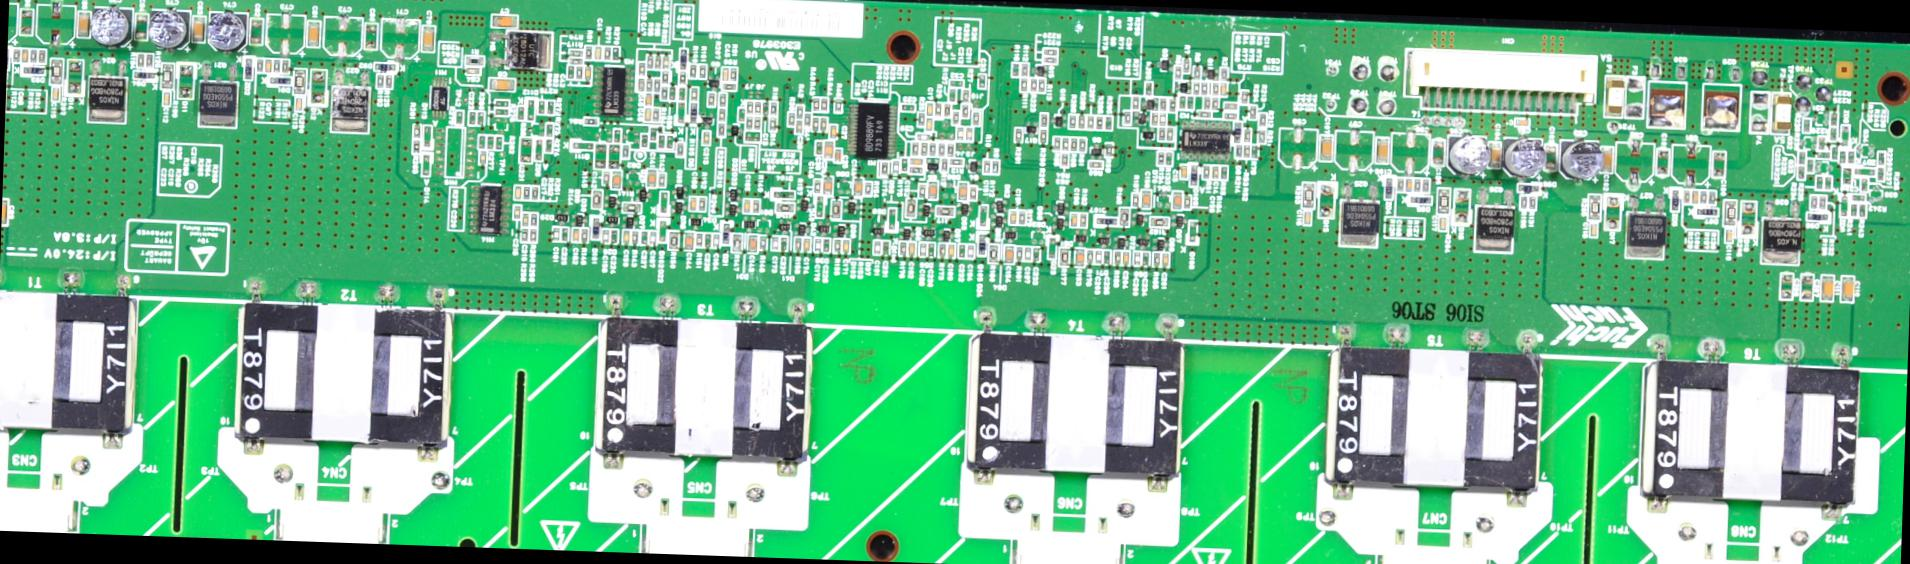Capacitor Jumper: (1448, 136, 1487, 172), (1563, 143, 1601, 178), (94, 6, 129, 43), (151, 11, 186, 46), (1510, 143, 1547, 177), (210, 12, 244, 45), (491, 13, 521, 28), (305, 19, 320, 48), (1375, 136, 1391, 163), (76, 10, 89, 38), (191, 17, 206, 43), (1838, 278, 1853, 302), (421, 26, 435, 51), (1320, 132, 1333, 160), (135, 11, 147, 39), (491, 76, 513, 90), (1599, 147, 1612, 171), (1489, 143, 1499, 167), (1821, 277, 1832, 300), (1, 199, 10, 225), (1171, 190, 1182, 211), (1004, 242, 1015, 261), (1031, 246, 1041, 262), (823, 140, 833, 157), (646, 169, 655, 186), (1141, 190, 1151, 207), (611, 172, 621, 189), (462, 66, 480, 74), (683, 233, 693, 249), (745, 130, 759, 141), (927, 184, 937, 199), (294, 96, 302, 112), (702, 130, 710, 146), (747, 236, 756, 250), (977, 74, 985, 89), (162, 90, 171, 105), (1404, 177, 1413, 191), (957, 184, 966, 199), (1588, 222, 1596, 239), (571, 227, 580, 241), (771, 235, 780, 250), (1076, 249, 1084, 263), (713, 233, 720, 249), (1179, 166, 1186, 180), (823, 178, 831, 192), (1009, 210, 1016, 224), (1070, 212, 1077, 227), (1123, 251, 1129, 268), (52, 88, 60, 101), (873, 240, 881, 253), (1305, 210, 1311, 225), (1143, 250, 1147, 269), (593, 46, 601, 58), (661, 56, 669, 68), (465, 108, 471, 123), (830, 123, 836, 138), (815, 143, 821, 157), (780, 236, 786, 251), (907, 241, 914, 256), (966, 245, 972, 259), (946, 245, 953, 259), (1132, 251, 1138, 266), (1095, 251, 1101, 266), (1102, 251, 1108, 266), (1163, 255, 1169, 269), (264, 58, 270, 72), (1692, 190, 1698, 203), (689, 197, 696, 211), (552, 227, 558, 240), (802, 238, 808, 251), (853, 182, 860, 192), (744, 200, 752, 211), (514, 183, 519, 199), (602, 227, 607, 242), (585, 66, 591, 78), (1513, 118, 1525, 124), (1212, 167, 1218, 179), (624, 230, 630, 242), (842, 240, 848, 252), (928, 244, 934, 256), (649, 230, 654, 245), (1024, 247, 1029, 262), (640, 231, 646, 242), (22, 48, 27, 61), (927, 101, 932, 115), (951, 79, 961, 85), (911, 157, 921, 163), (901, 160, 906, 172), (1726, 229, 1731, 241), (918, 244, 923, 256), (957, 245, 962, 257), (521, 229, 526, 240), (797, 122, 800, 134), (1440, 218, 1443, 230), (646, 95, 650, 104), (646, 110, 649, 121), (815, 238, 819, 249), (724, 67, 726, 79)
IC: (853, 110, 889, 152), (1183, 125, 1228, 151), (477, 188, 498, 227), (603, 68, 620, 112), (432, 88, 446, 106)
Resistor Jumper: (158, 62, 173, 89), (50, 57, 62, 84), (1437, 189, 1451, 212), (1724, 199, 1735, 225), (294, 68, 306, 91), (129, 69, 156, 79), (1587, 195, 1599, 216), (1119, 207, 1132, 227), (1057, 249, 1070, 268), (591, 188, 601, 210), (830, 200, 843, 216), (987, 244, 998, 262), (1303, 182, 1312, 205), (1855, 166, 1873, 175), (134, 51, 145, 67), (731, 235, 742, 251), (815, 196, 823, 216), (668, 230, 677, 247), (583, 116, 601, 124), (936, 207, 953, 216), (38, 48, 48, 62), (622, 203, 638, 212), (758, 235, 766, 251), (1841, 195, 1847, 217), (145, 52, 153, 67), (720, 83, 735, 91), (961, 104, 968, 121), (1849, 200, 1856, 217), (905, 200, 912, 217), (510, 203, 519, 218), (1194, 82, 1201, 97), (1078, 213, 1085, 229), (1113, 250, 1121, 266), (1828, 112, 1837, 125), (382, 74, 391, 88), (1089, 162, 1102, 171), (1842, 164, 1848, 183), (918, 180, 925, 199), (834, 97, 842, 112), (486, 134, 493, 149), (1201, 164, 1208, 179), (456, 111, 464, 123), (983, 160, 989, 177), (1194, 65, 1201, 78), (1171, 100, 1178, 113), (1104, 143, 1111, 156), (376, 73, 382, 89), (544, 123, 551, 139), (1130, 190, 1136, 206), (256, 58, 262, 73), (547, 99, 553, 113), (912, 140, 918, 155), (879, 158, 886, 173), (1016, 245, 1022, 259), (1184, 58, 1190, 73), (1079, 115, 1084, 132), (1087, 115, 1091, 132), (1046, 48, 1056, 56), (585, 45, 591, 58), (1221, 67, 1227, 80), (1011, 62, 1017, 76), (13, 48, 19, 61), (707, 93, 713, 106), (614, 128, 620, 141), (657, 134, 663, 147), (621, 145, 627, 158), (950, 160, 964, 166), (1018, 211, 1024, 224), (1225, 113, 1236, 121), (1067, 115, 1074, 125), (496, 108, 507, 116), (1682, 191, 1690, 202), (479, 151, 486, 162), (864, 183, 871, 194), (1222, 166, 1227, 182), (1154, 251, 1158, 267), (604, 48, 610, 60), (569, 50, 581, 56), (1212, 82, 1218, 94), (1201, 83, 1207, 95), (728, 67, 735, 79), (273, 58, 279, 71), (678, 89, 685, 101), (717, 94, 724, 106), (1260, 115, 1266, 127), (936, 104, 942, 116), (1816, 135, 1822, 147), (717, 108, 724, 121), (1241, 145, 1247, 157), (1877, 167, 1883, 179), (1698, 190, 1704, 202), (1519, 196, 1525, 208), (1154, 218, 1166, 224), (697, 233, 703, 245), (283, 58, 287, 73), (1200, 108, 1210, 116), (1260, 128, 1264, 143), (1070, 138, 1074, 152), (948, 144, 953, 158), (992, 160, 996, 174), (581, 227, 586, 241), (834, 239, 839, 253), (797, 106, 803, 117), (497, 100, 508, 106), (926, 117, 932, 128), (804, 113, 810, 124), (917, 134, 928, 140), (531, 188, 537, 199), (1044, 57, 1055, 63), (568, 66, 573, 79), (30, 48, 35, 61), (1803, 117, 1808, 130), (1040, 113, 1045, 127), (972, 112, 977, 125), (537, 101, 542, 115), (939, 143, 944, 156), (414, 125, 419, 139), (1810, 195, 1815, 208), (523, 185, 527, 199), (699, 197, 704, 211), (531, 213, 536, 227), (795, 238, 800, 251), (1087, 249, 1091, 262), (1222, 85, 1227, 97), (1178, 95, 1183, 107), (1206, 99, 1212, 108), (691, 89, 696, 101), (953, 111, 957, 123), (917, 113, 922, 125), (1849, 151, 1854, 163), (1167, 128, 1172, 140), (820, 117, 825, 129), (957, 128, 962, 140), (1054, 138, 1059, 150), (1798, 167, 1803, 179), (1862, 180, 1869, 190), (496, 136, 501, 149), (1415, 179, 1420, 191), (753, 200, 758, 212), (523, 213, 527, 225), (614, 48, 619, 58), (1039, 79, 1044, 90), (576, 67, 581, 78), (1161, 97, 1165, 112), (670, 86, 675, 97), (1830, 129, 1834, 140), (754, 101, 759, 112), (1878, 151, 1883, 162), (754, 117, 759, 128), (1016, 128, 1020, 143), (476, 112, 481, 123), (719, 123, 724, 134), (1063, 138, 1067, 152), (1062, 155, 1067, 166), (900, 240, 904, 255), (940, 242, 944, 257), (699, 65, 703, 78), (647, 78, 650, 91), (1079, 138, 1083, 151), (1424, 179, 1428, 192), (949, 90, 954, 100), (814, 99, 819, 108), (770, 104, 775, 113), (1799, 152, 1804, 162), (1824, 178, 1828, 188), (1708, 191, 1713, 201), (912, 167, 922, 172), (1819, 197, 1824, 207), (1529, 197, 1534, 207), (603, 173, 608, 183), (570, 58, 582, 62), (640, 63, 643, 76), (1022, 82, 1028, 89), (1242, 91, 1246, 104), (661, 86, 665, 99), (1160, 115, 1166, 122), (748, 100, 752, 112), (1105, 116, 1108, 128), (1245, 128, 1249, 140), (1839, 151, 1843, 163), (814, 118, 817, 130), (642, 134, 646, 146), (479, 134, 482, 146), (678, 144, 682, 156), (546, 144, 552, 151), (412, 145, 419, 151), (531, 230, 535, 242), (680, 74, 685, 83), (654, 80, 659, 89), (771, 121, 776, 129), (966, 129, 971, 138), (655, 57, 659, 68), (1188, 96, 1191, 107), (638, 78, 642, 89), (821, 99, 825, 110), (747, 116, 750, 127), (1041, 132, 1045, 143), (1808, 160, 1811, 171), (931, 143, 934, 153), (1816, 175, 1820, 186), (666, 136, 670, 147), (1861, 203, 1865, 214), (659, 174, 663, 185), (633, 231, 637, 242), (1033, 80, 1037, 90), (962, 89, 966, 99), (1225, 104, 1235, 107), (1251, 108, 1255, 118), (944, 105, 948, 115), (1152, 115, 1157, 122), (1098, 115, 1100, 129), (1158, 152, 1162, 162), (1022, 65, 1024, 78), (789, 112, 792, 125), (1175, 68, 1179, 77), (664, 72, 668, 80), (1167, 151, 1171, 160), (1398, 179, 1402, 188), (691, 65, 693, 77), (894, 161, 897, 173), (764, 102, 766, 113), (922, 143, 925, 153), (648, 57, 650, 67), (1831, 147, 1833, 157), (1252, 147, 1255, 157), (1214, 99, 1217, 107), (1161, 128, 1162, 140)
Transistor: (93, 79, 124, 119), (335, 89, 364, 130), (509, 34, 544, 66), (1482, 210, 1508, 249), (1766, 224, 1795, 256), (203, 86, 229, 119), (1633, 213, 1657, 247), (1345, 203, 1368, 234), (1024, 125, 1034, 136), (927, 162, 936, 171), (971, 158, 977, 169), (1091, 145, 1099, 153), (1163, 58, 1168, 71), (1145, 99, 1152, 106), (728, 124, 736, 132), (1206, 68, 1212, 77), (1056, 115, 1062, 123), (1144, 130, 1151, 136), (705, 117, 711, 124), (709, 79, 717, 84), (1179, 83, 1185, 89), (960, 205, 965, 212)
